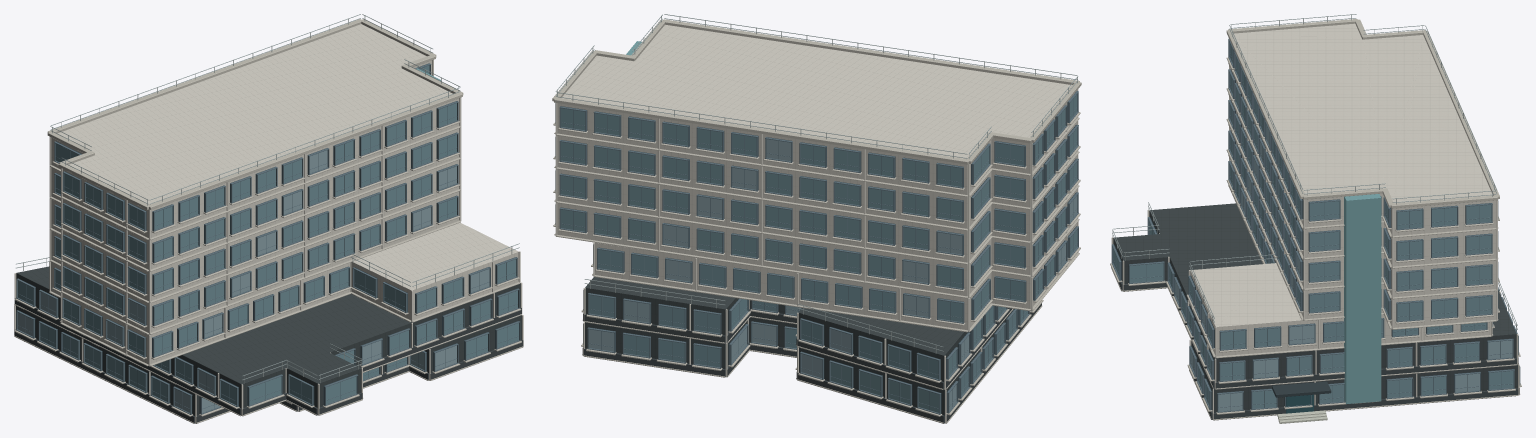
The model's file is graduate.glb.
The picture shows the model from 3 angles, left to right: view 1: azimuth 30°, elevation 25°; view 2: azimuth 150°, elevation 25°; view 3: azimuth 270°, elevation 25°; orthographic projection. The views are drawn at different scales.
Visible parts, largest first — view 1: graduate_body_dedbd1, graduate, graduate_glass_76969f, graduate_stone_c4c1b7, graduate_glass_90a8b0, graduate_stone_454d50, graduate_stone_dedbd1, graduate_frames_9aa8a9, graduate_frames_a8b2b0; view 2: graduate_body_dedbd1, graduate, graduate_glass_76969f, graduate_stone_c4c1b7, graduate_glass_90a8b0, graduate_stone_454d50, graduate_stone_dedbd1, graduate_frames_9aa8a9, graduate_frames_a8b2b0; view 3: graduate_body_dedbd1, graduate, graduate_glass_76969f, graduate_stone_c4c1b7, graduate_glass_7caaaf, graduate_stone_454d50, graduate_glass_90a8b0, graduate_frames_9aa8a9, graduate_stone_dedbd1, graduate_stone_3a464b, graduate_frames_a8b2b0, graduate_stone_c9ccc0 (+1 smaller).
Part boxes in pixels (box(x1,y1,x2,y2)): graduate_body_dedbd1: box(51, 24, 518, 364); graduate: box(16, 63, 521, 415); graduate_glass_76969f: box(18, 65, 518, 405); graduate_stone_c4c1b7: box(14, 19, 523, 423); graduate_glass_90a8b0: box(17, 150, 489, 412); graduate_stone_454d50: box(14, 298, 523, 423); graduate_stone_dedbd1: box(14, 60, 523, 423); graduate_frames_9aa8a9: box(16, 14, 519, 380); graduate_frames_a8b2b0: box(23, 15, 512, 383); graduate_body_dedbd1: box(557, 24, 1077, 330); graduate: box(555, 91, 1078, 415); graduate_glass_76969f: box(561, 94, 1077, 412); graduate_stone_c4c1b7: box(552, 19, 1081, 423); graduate_glass_90a8b0: box(588, 139, 1077, 409); graduate_stone_454d50: box(582, 303, 1041, 423); graduate_stone_dedbd1: box(555, 89, 1078, 423); graduate_frames_9aa8a9: box(555, 14, 1078, 351); graduate_frames_a8b2b0: box(557, 15, 1077, 353); graduate_body_dedbd1: box(1190, 23, 1496, 356); graduate: box(1111, 38, 1520, 412); graduate_glass_76969f: box(1113, 43, 1513, 408); graduate_stone_c4c1b7: box(1110, 19, 1521, 420); graduate_glass_7caaaf: box(1344, 194, 1381, 404); graduate_stone_454d50: box(1118, 280, 1519, 420); graduate_glass_90a8b0: box(1175, 126, 1512, 411); graduate_frames_9aa8a9: box(1112, 14, 1517, 329); graduate_stone_dedbd1: box(1111, 66, 1519, 420); graduate_stone_3a464b: box(1272, 381, 1331, 397); graduate_frames_a8b2b0: box(1112, 14, 1516, 331); graduate_stone_c9ccc0: box(1277, 410, 1327, 423).
Bounding box in the file's own units: 47.6 × 26.2 × 43.88.
15 materials, 2 textured.
